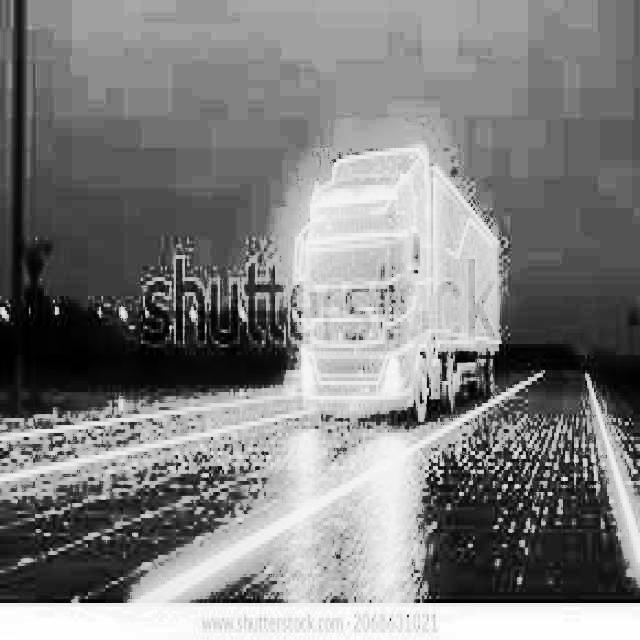Truck: (288, 141, 502, 422)
